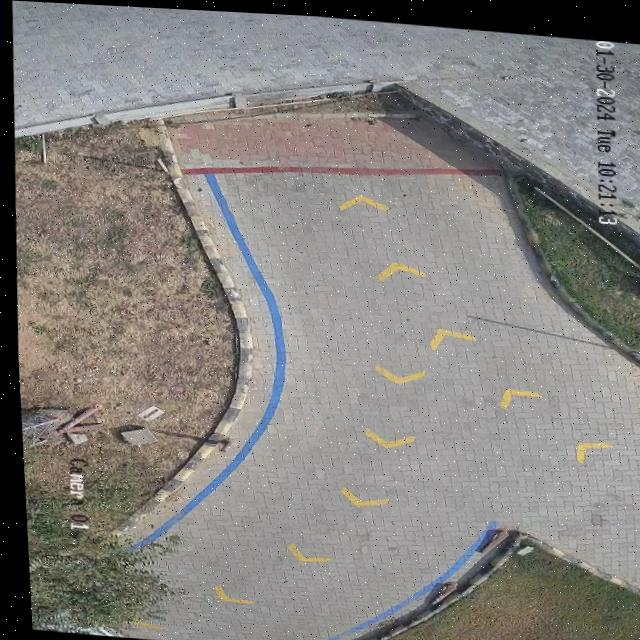No Car: (11, 0, 640, 640)
